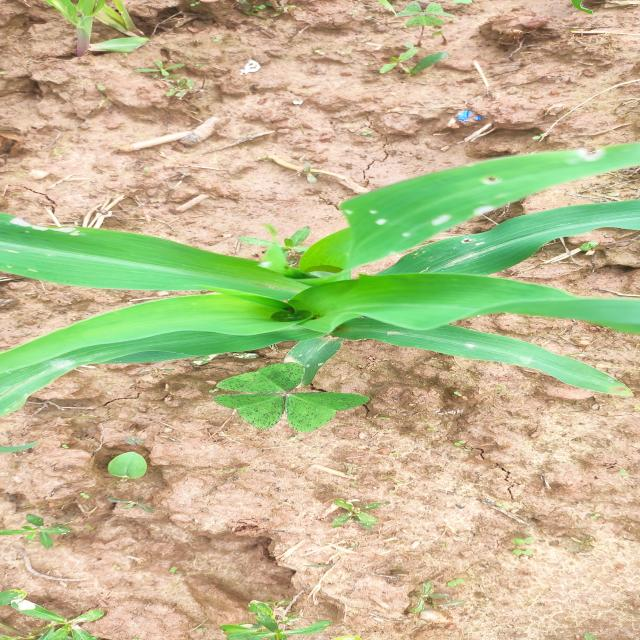maize: (0, 149, 640, 366), (52, 0, 128, 58)
weed: (17, 449, 381, 640), (368, 3, 465, 86), (236, 371, 351, 416)
